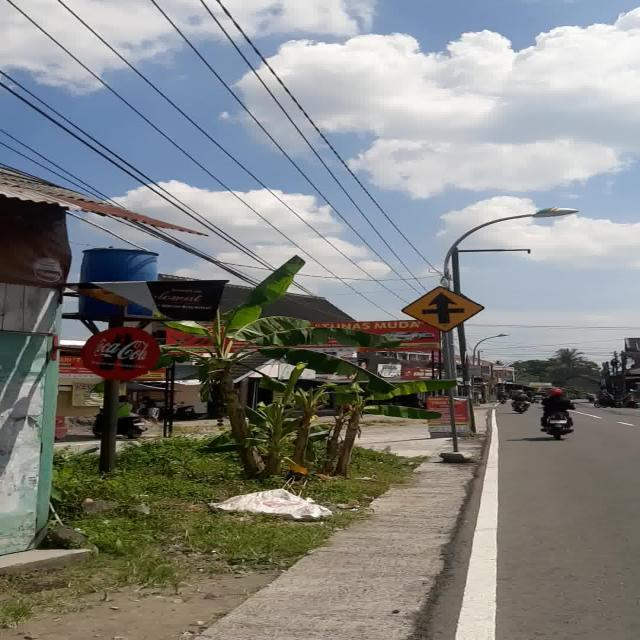Persimpangan 3 Prioritas: (400, 286, 486, 332)
